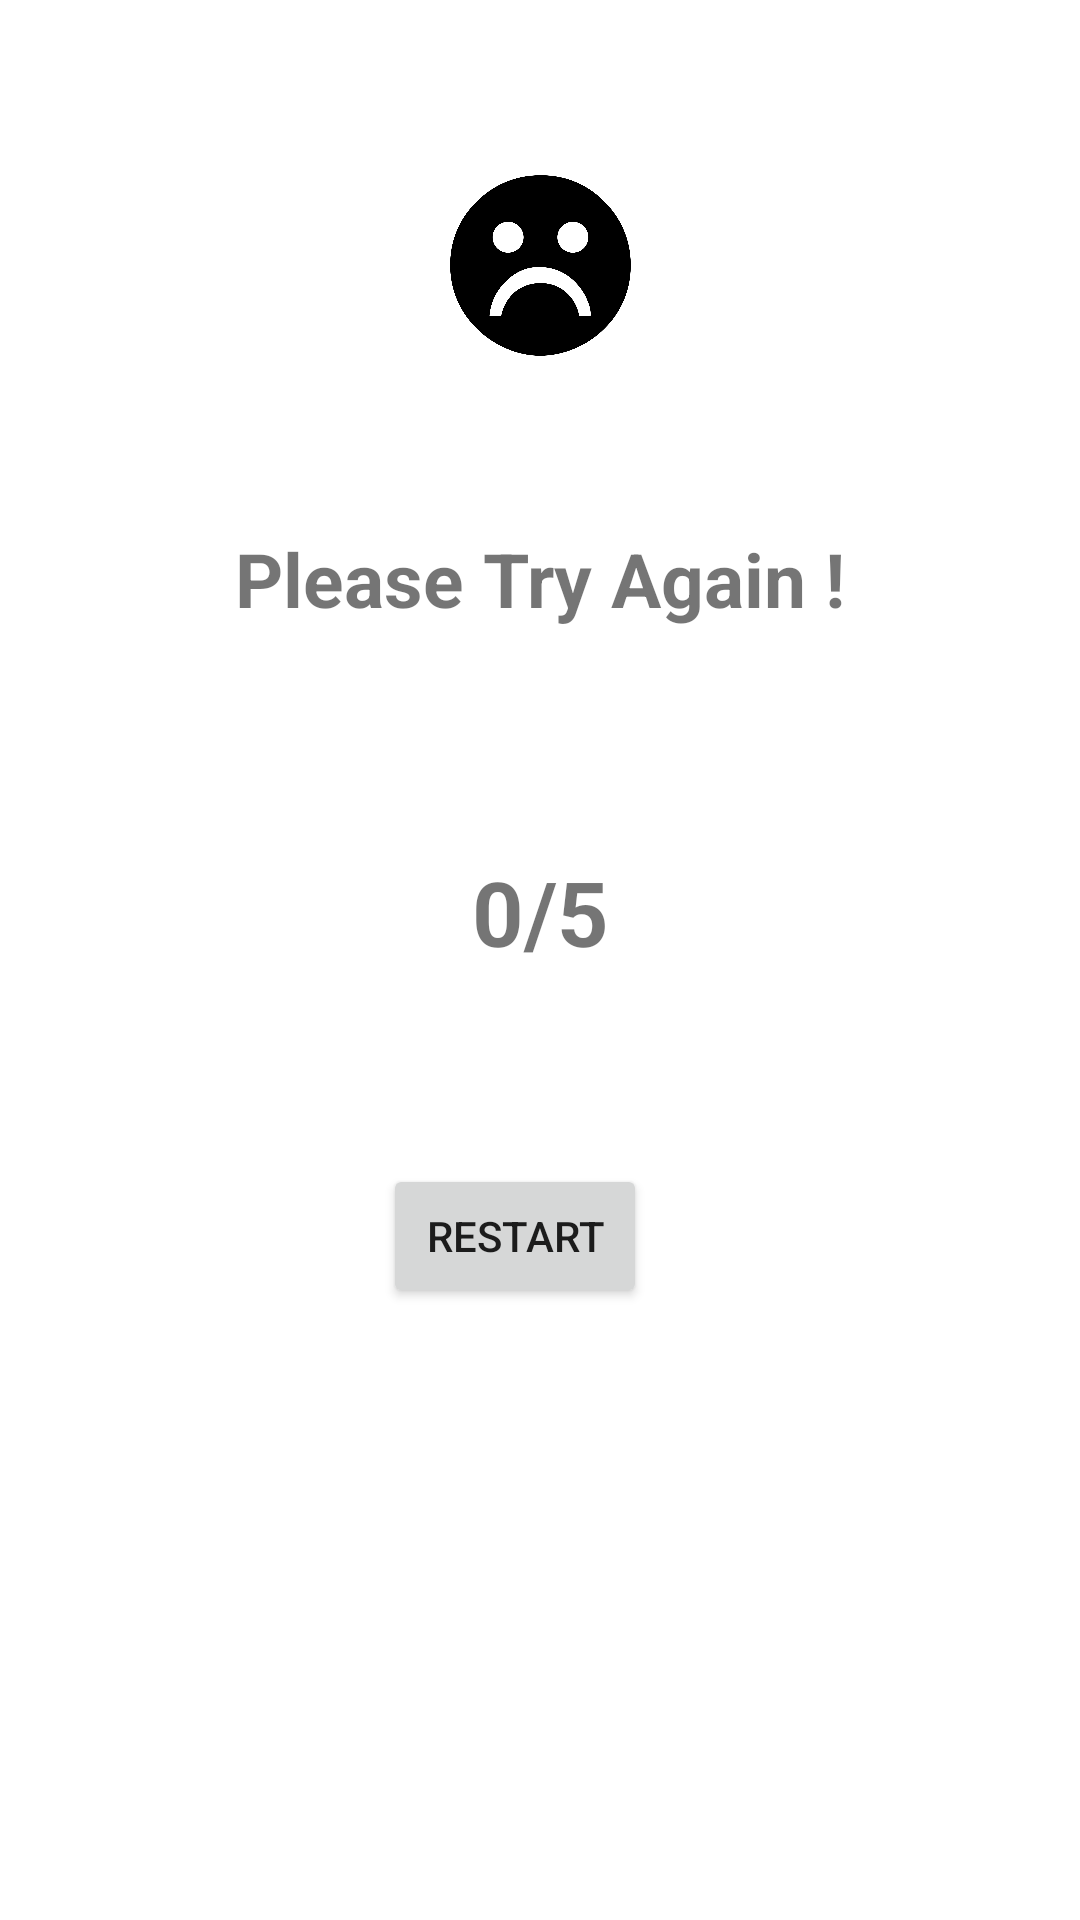

Icons on this 1080 × 1920 Android screen, each with its box as (x1, y1, x2, y2):
sad: (450, 175, 631, 356)
